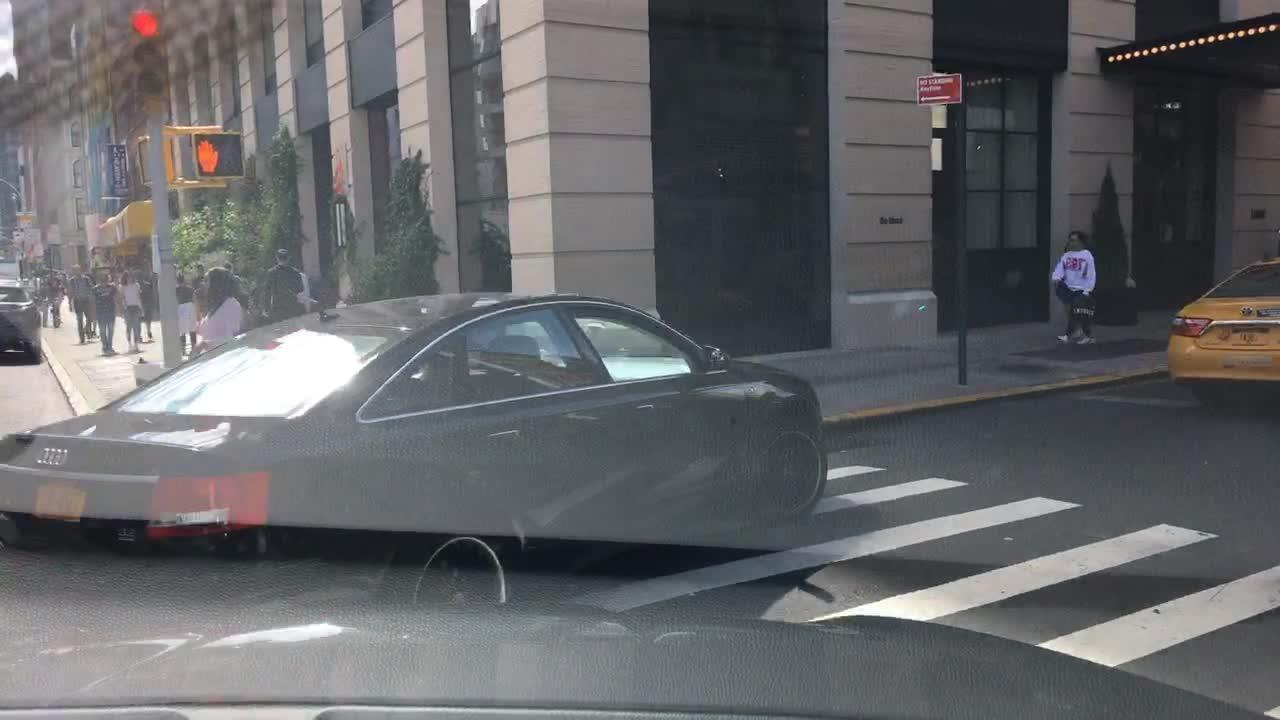Audi: (33, 443, 71, 471)
